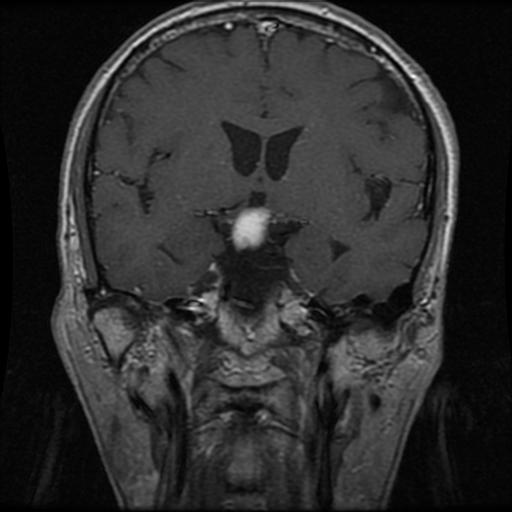Menigiomia_tumour: (231, 204, 270, 249)
